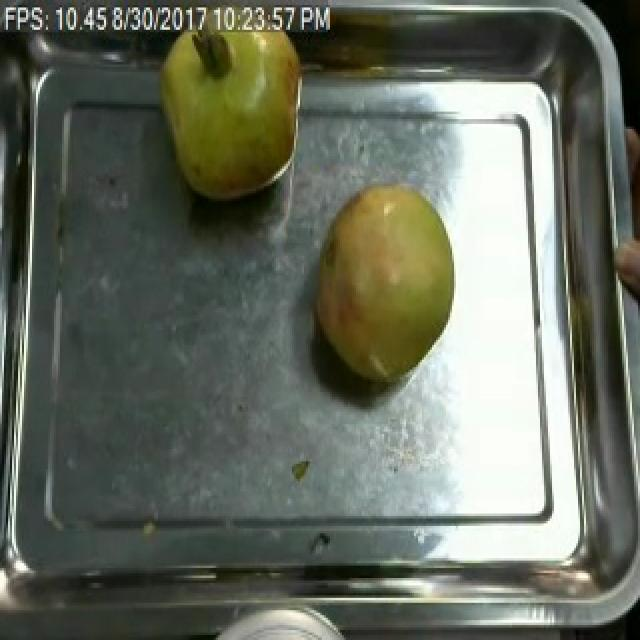fruit: (306, 169, 468, 399), (148, 7, 312, 211), (608, 211, 640, 315)
